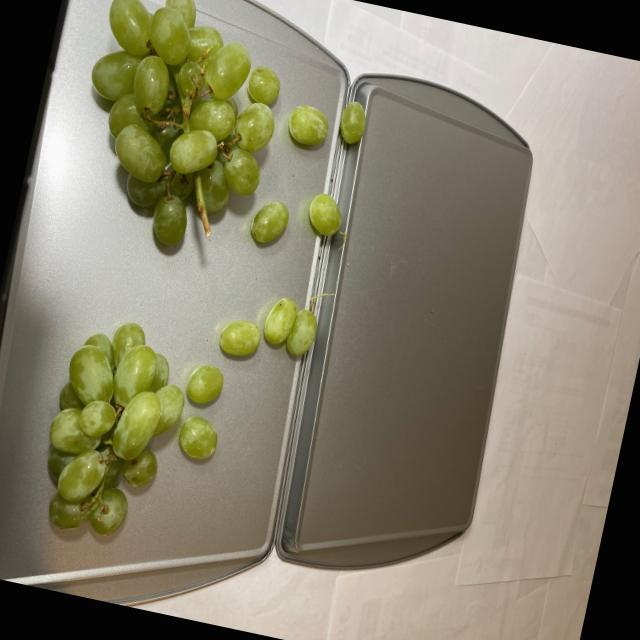grapes: (24, 0, 384, 585)
